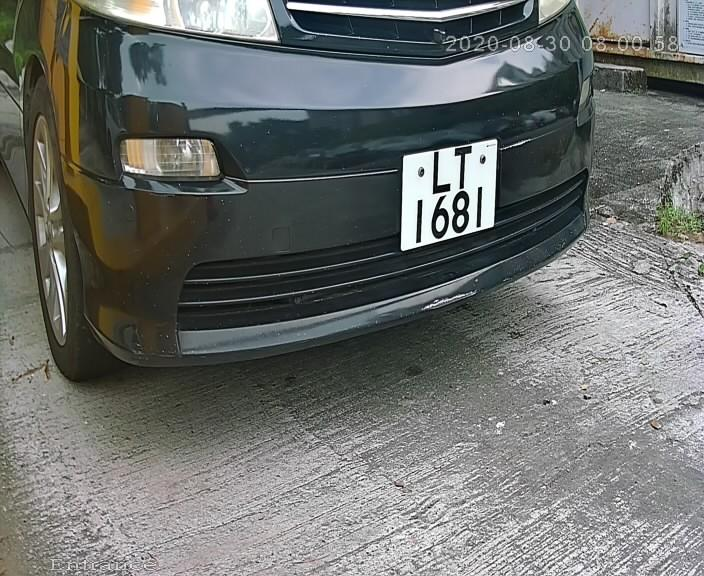License Plate: (390, 127, 507, 263)
